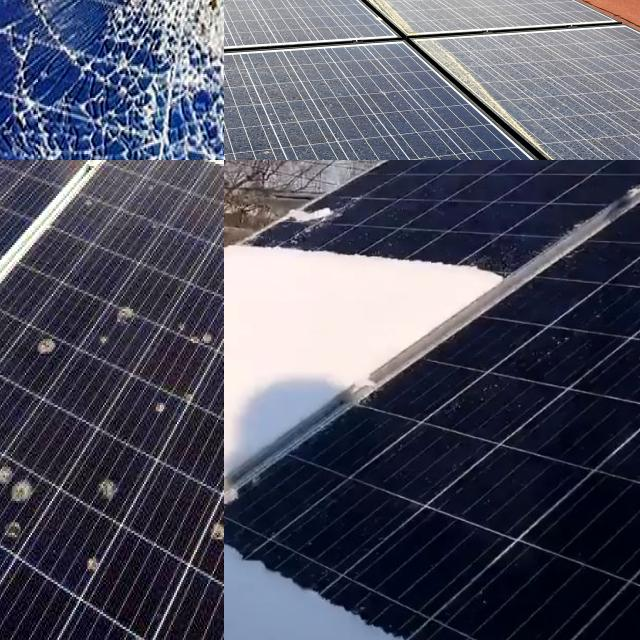bird: (0, 458, 36, 552), (180, 306, 220, 362), (196, 510, 224, 562), (32, 330, 74, 360), (81, 542, 110, 580), (0, 324, 29, 360), (96, 477, 127, 509), (150, 394, 177, 422), (0, 160, 23, 191), (119, 304, 143, 332), (0, 241, 15, 280), (0, 377, 18, 409), (0, 204, 13, 240), (0, 341, 10, 384)
dust: (224, 78, 453, 160), (521, 57, 640, 150), (224, 0, 300, 54)
hotspot: (105, 0, 224, 160), (0, 59, 99, 160), (0, 0, 82, 98), (121, 124, 224, 160)
panel: (224, 509, 632, 640), (224, 295, 447, 497), (254, 218, 503, 304), (373, 160, 640, 194), (263, 190, 358, 234)
